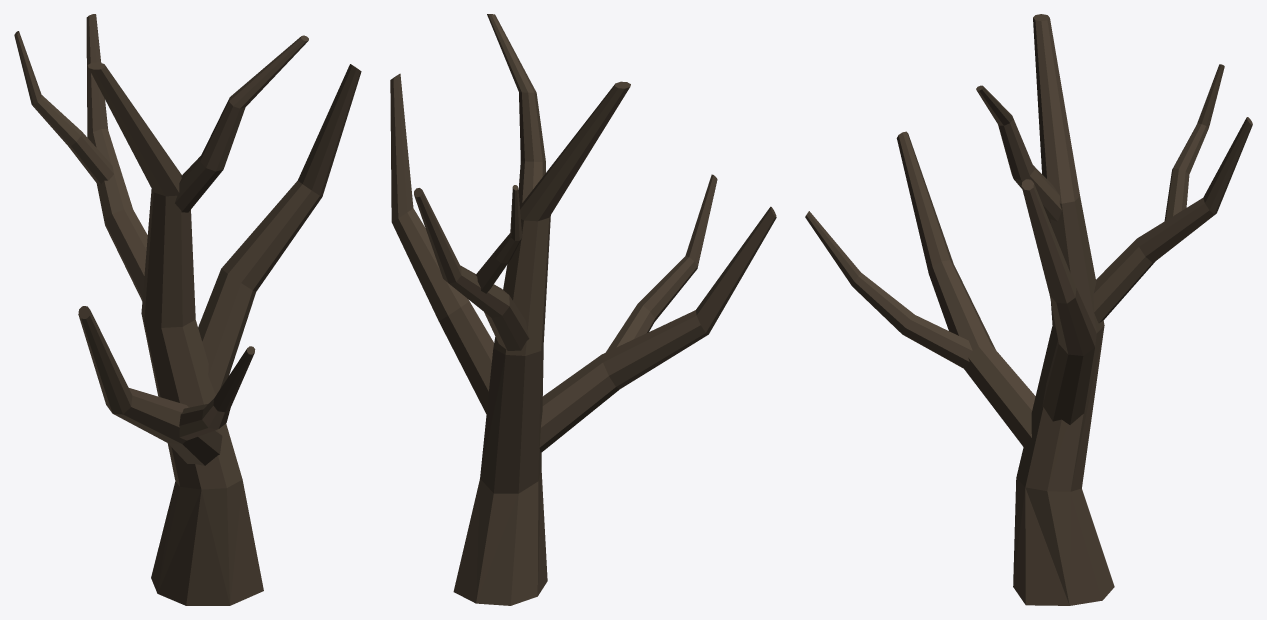
The model's file is decTree_1.obj.
3 views of the same model, side by side, from view 1: azimuth 30°, elevation 25°; view 2: azimuth 150°, elevation 25°; view 3: azimuth 270°, elevation 25° (orthographic). The views are drawn at different scales.
Bounding box in the file's own units: 242 × 378 × 292.
